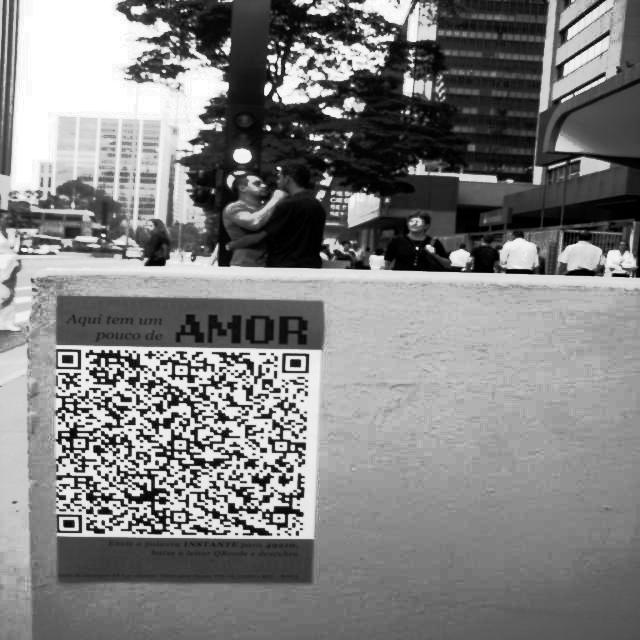qr_code: (56, 349, 309, 536)
